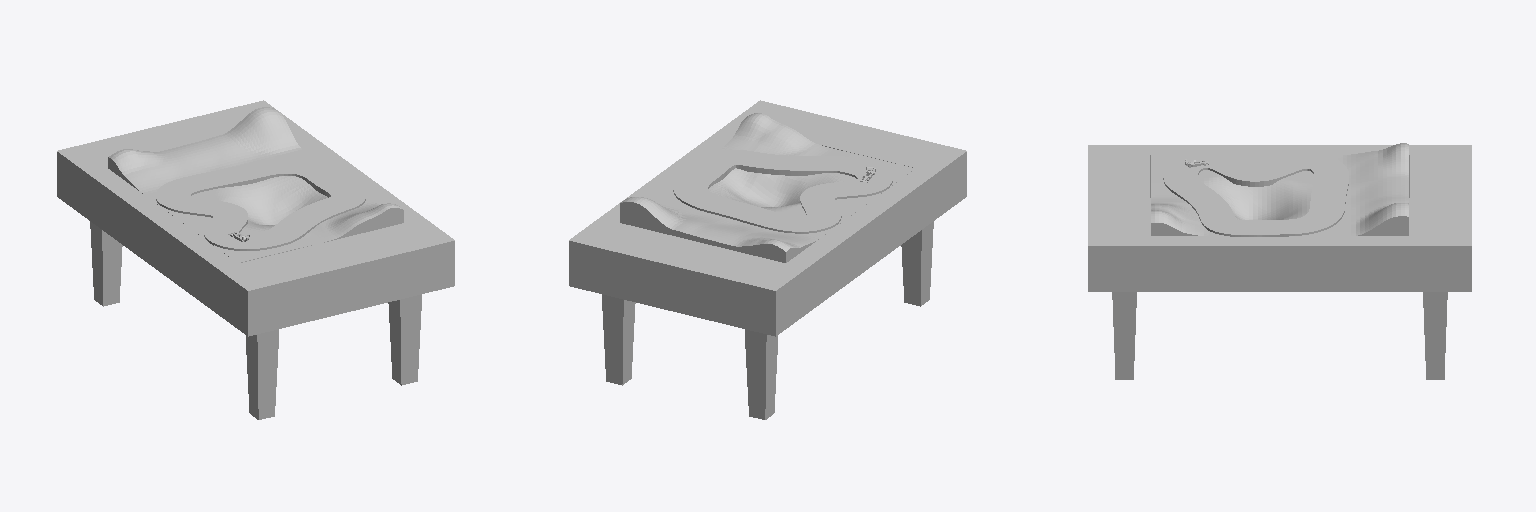
File: NewestTisch64.obj
The picture shows the model from 3 angles: view 1: azimuth 30°, elevation 25°; view 2: azimuth 150°, elevation 25°; view 3: azimuth 270°, elevation 25°; orthographic projection.
Visible parts, largest first — view 1: Tischplatte_wood_table_001, Landschaft_aerial_grass_rock, off, Bein1_wood_table_001, Bein4_wood_table_001.003, Bein3_wood_table_001.002; view 2: Tischplatte_wood_table_001, Landschaft_aerial_grass_rock, off, Bein2_wood_table_001.001, Bein3_wood_table_001.002, Bein4_wood_table_001.003; view 3: Tischplatte_wood_table_001, Landschaft_aerial_grass_rock, off, Bein1_wood_table_001, Bein2_wood_table_001.001.
Boxes of the visible parts, <box> form: Tischplatte_wood_table_001: <box>57,100,454,336</box>; Landschaft_aerial_grass_rock: <box>108,107,403,262</box>; off: <box>156,159,365,250</box>; Bein1_wood_table_001: <box>388,294,421,385</box>; Bein4_wood_table_001.003: <box>246,329,278,419</box>; Bein3_wood_table_001.002: <box>90,221,122,306</box>; Tischplatte_wood_table_001: <box>569,100,966,336</box>; Landschaft_aerial_grass_rock: <box>620,113,915,262</box>; off: <box>673,150,892,233</box>; Bein2_wood_table_001.001: <box>602,294,635,385</box>; Bein3_wood_table_001.002: <box>745,329,777,419</box>; Bein4_wood_table_001.003: <box>901,221,933,306</box>; Tischplatte_wood_table_001: <box>1088,145,1471,291</box>; Landschaft_aerial_grass_rock: <box>1151,143,1408,235</box>; off: <box>1163,153,1348,236</box>; Bein1_wood_table_001: <box>1112,292,1136,379</box>; Bein2_wood_table_001.001: <box>1423,292,1447,379</box>.
Size of the model in its own units: 5 by 3.91 by 8.